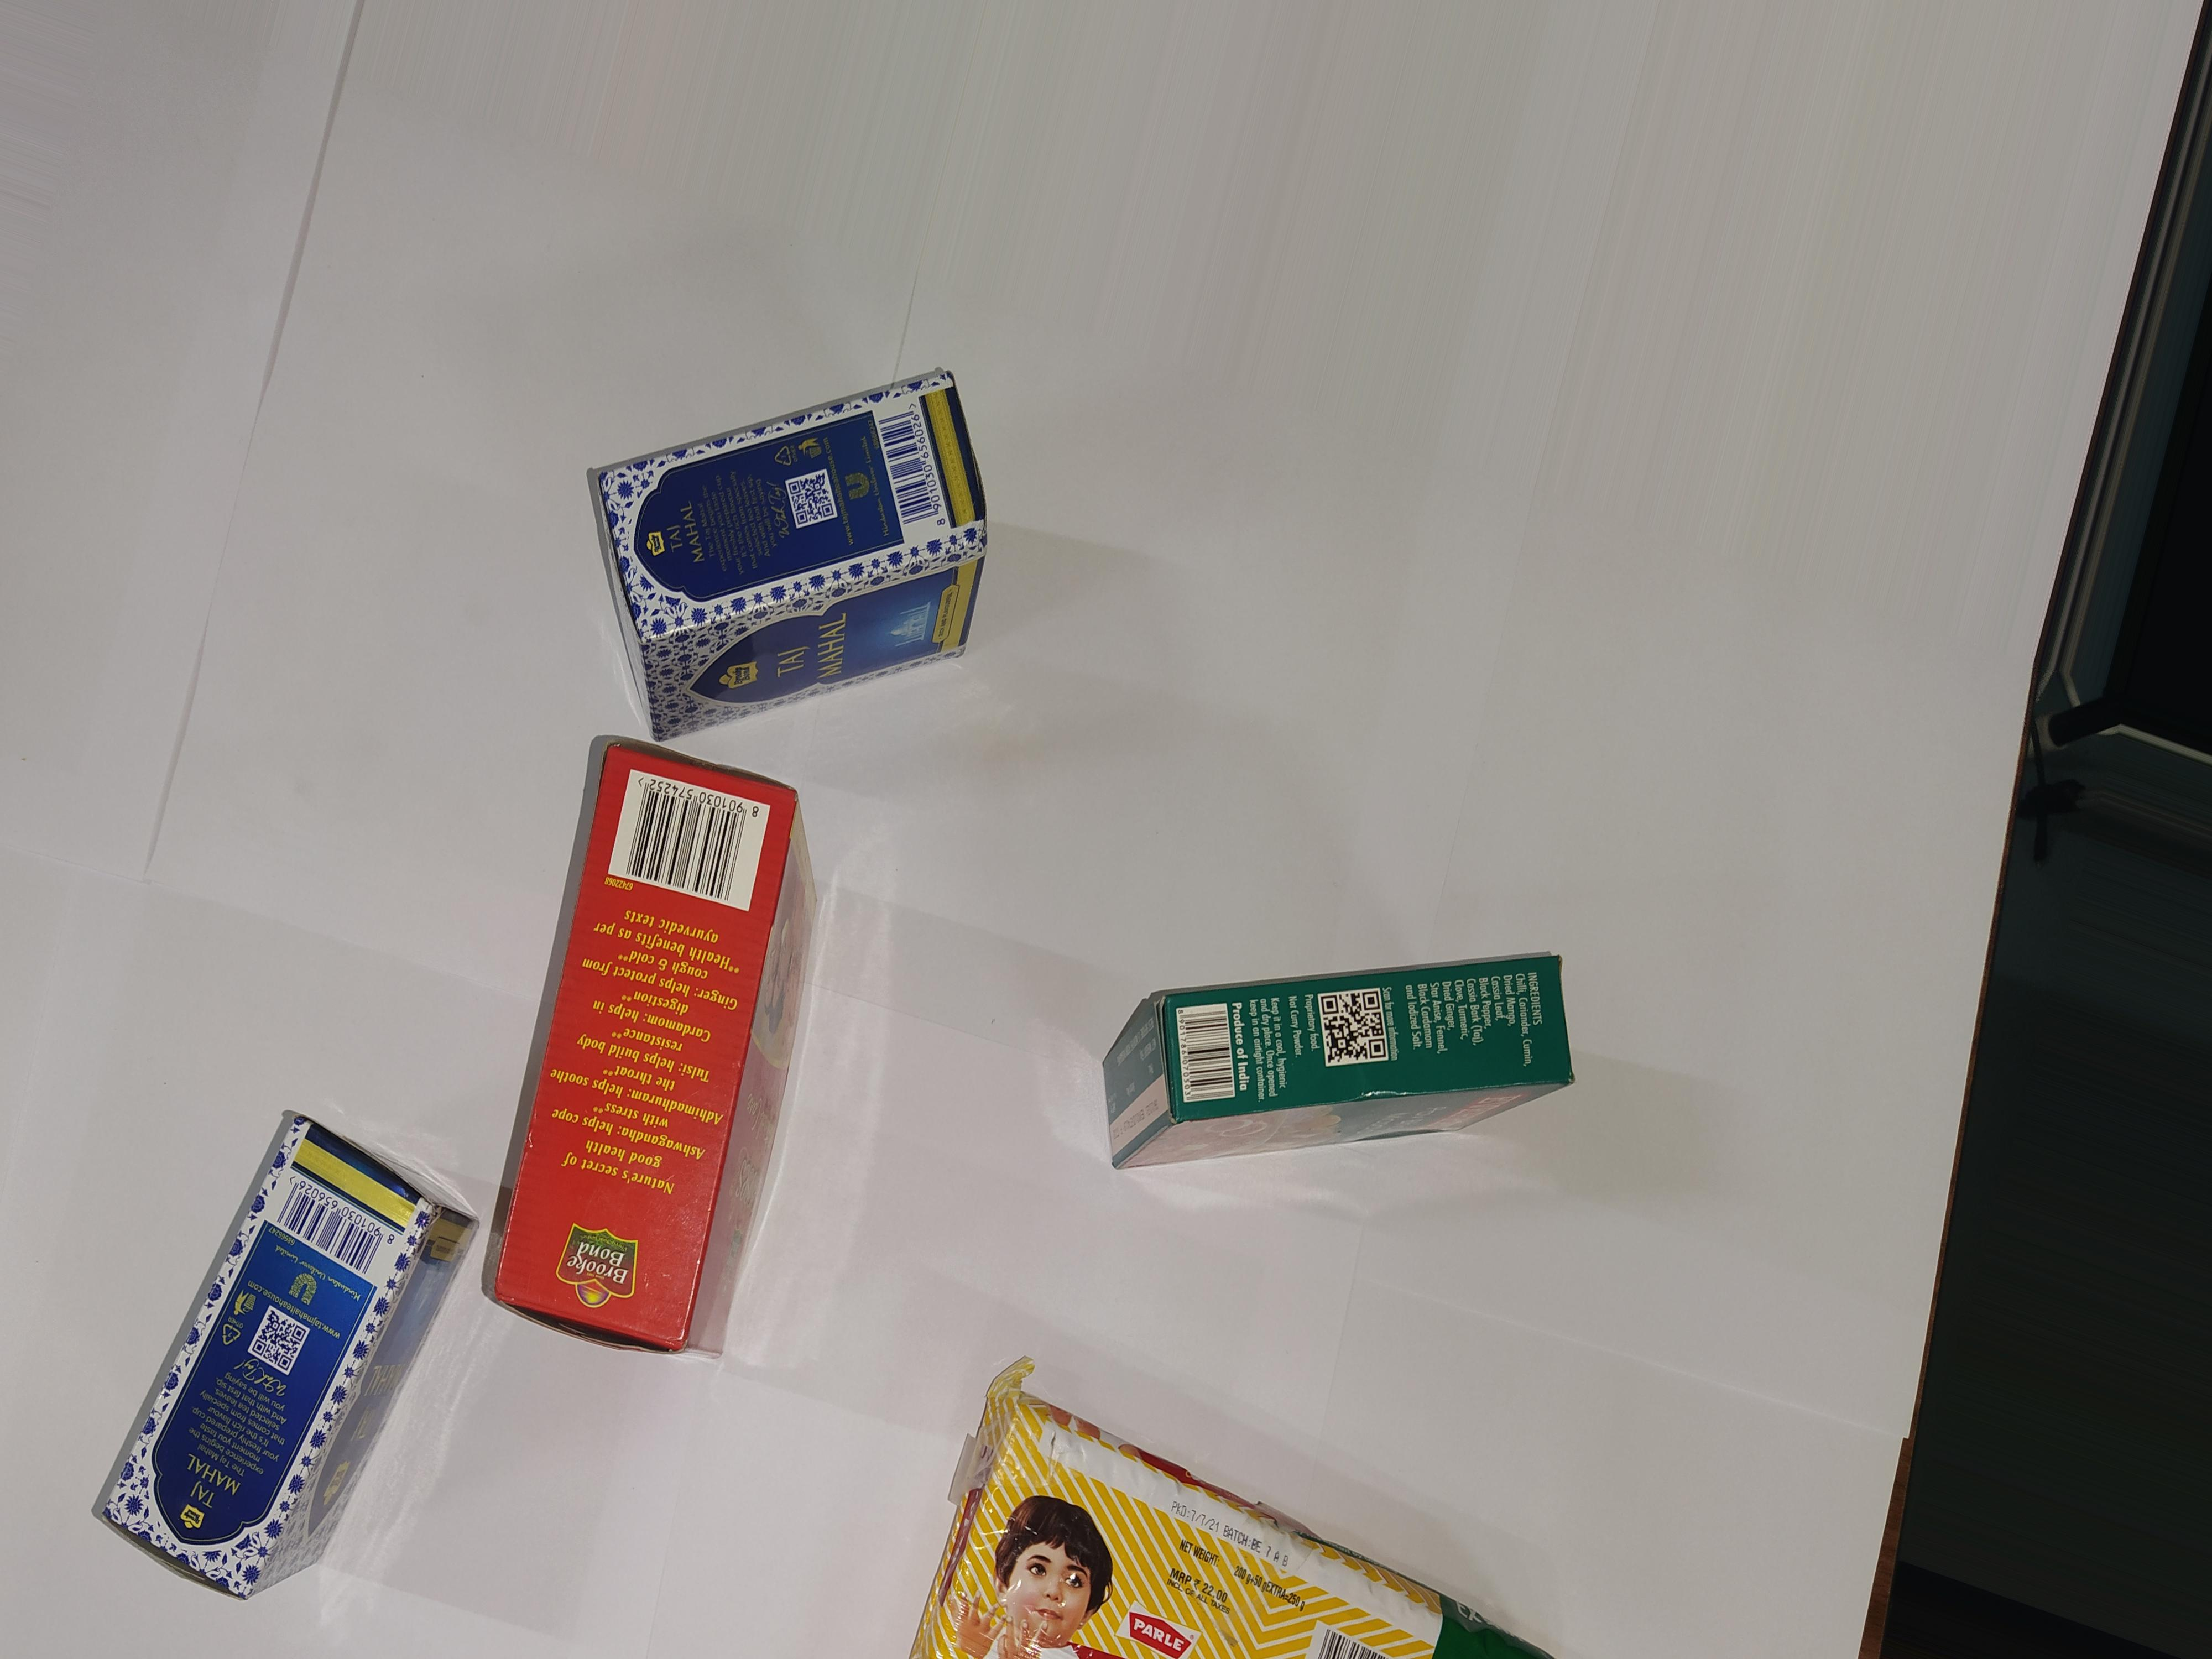Bar_code: (587, 763, 787, 920), (270, 1161, 416, 1307), (864, 401, 967, 552), (1169, 988, 1244, 1124)
Item: (488, 718, 836, 1405), (45, 1108, 486, 1633), (904, 1345, 1575, 1659), (531, 356, 1035, 753), (1076, 941, 1622, 1204)
QR_code: (1322, 985, 1402, 1072), (251, 1303, 315, 1384), (791, 471, 846, 533)
